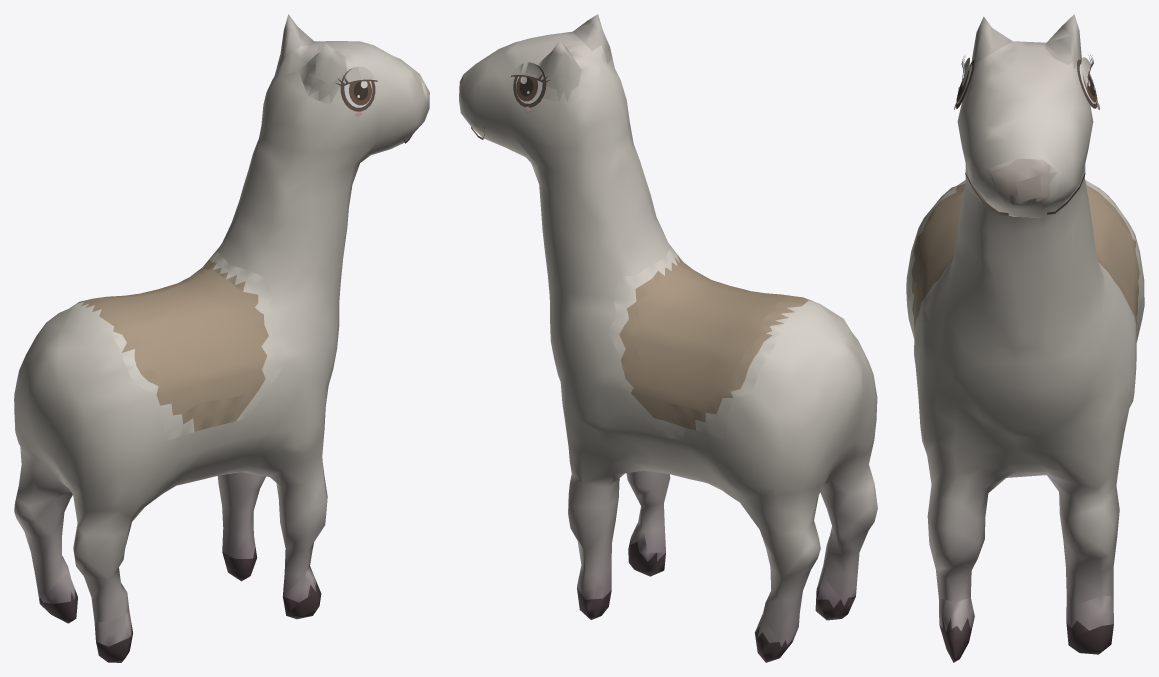
Rendered from llama.glb.
3 views of the same model, side by side, from view 1: azimuth 30°, elevation 25°; view 2: azimuth 150°, elevation 25°; view 3: azimuth 270°, elevation 25° (orthographic). The views are drawn at different scales.
Parts seen in each view (by area): view 1: llama; view 2: llama; view 3: llama.
Part boxes in pixels (<box>): llama: <box>14,14,429,662</box>; llama: <box>459,14,877,662</box>; llama: <box>906,14,1144,662</box>.
Size of the model in its own units: 0.9198 by 1.26 by 0.4076.
